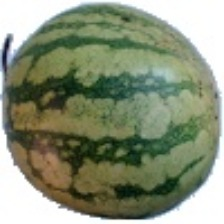watermelon: (11, 19, 212, 185)
